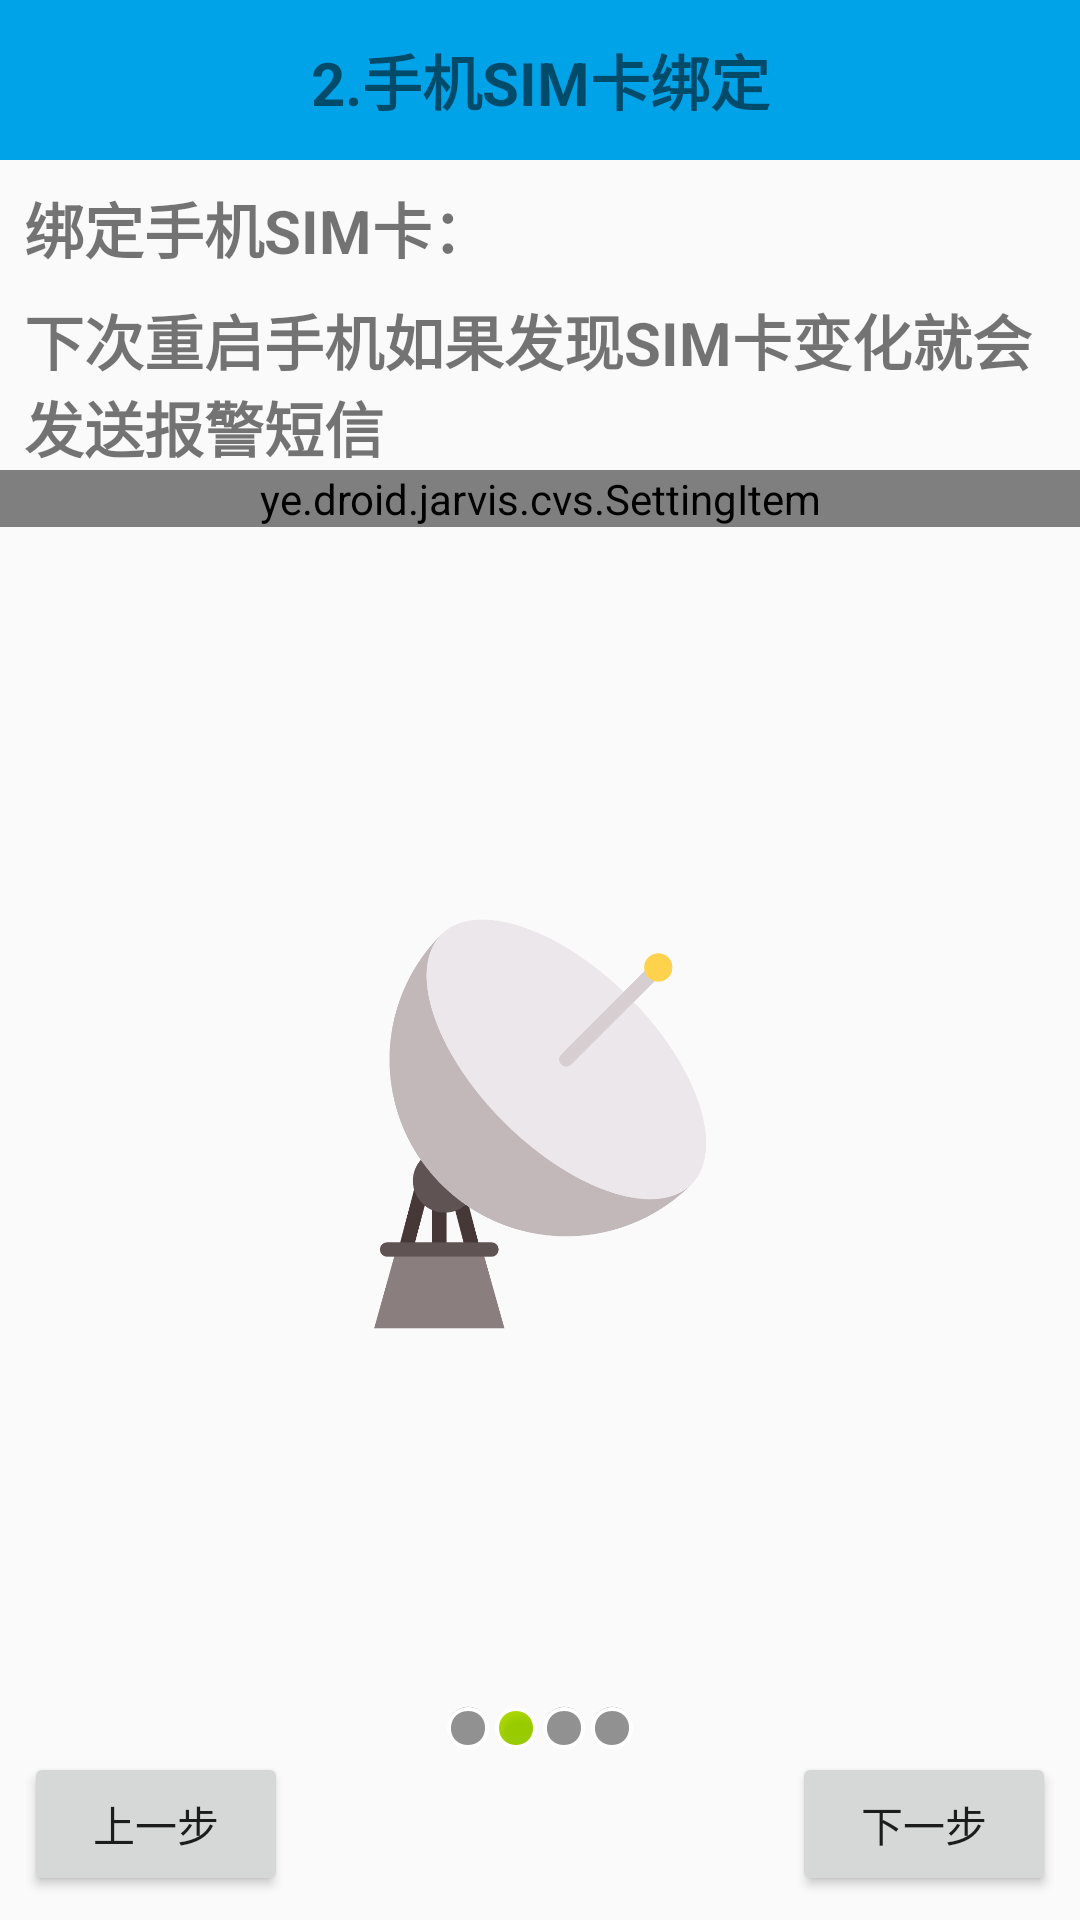

Screen size 1080px x 1920px. Icon name, then its center in pixels as (x,y):
presence invisible: (468,1726), (564,1726), (612,1726)
presence online: (516,1728)
